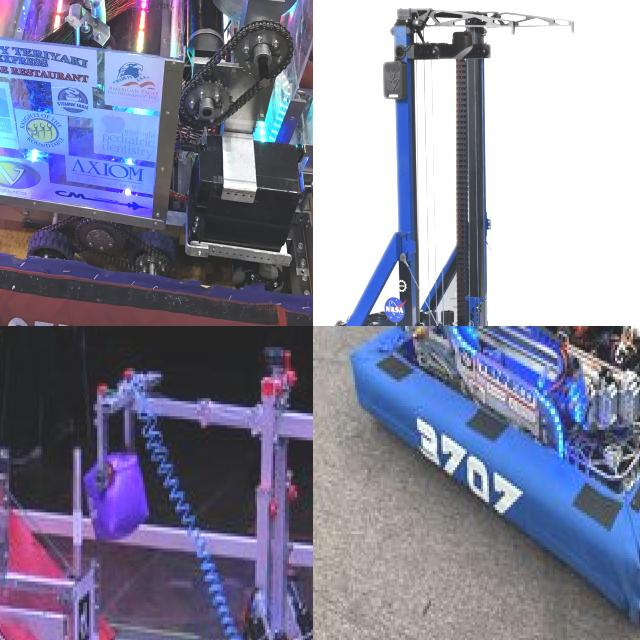FRC-Robots: (0, 0, 313, 326), (341, 326, 640, 626), (313, 18, 590, 326), (62, 371, 313, 640)
